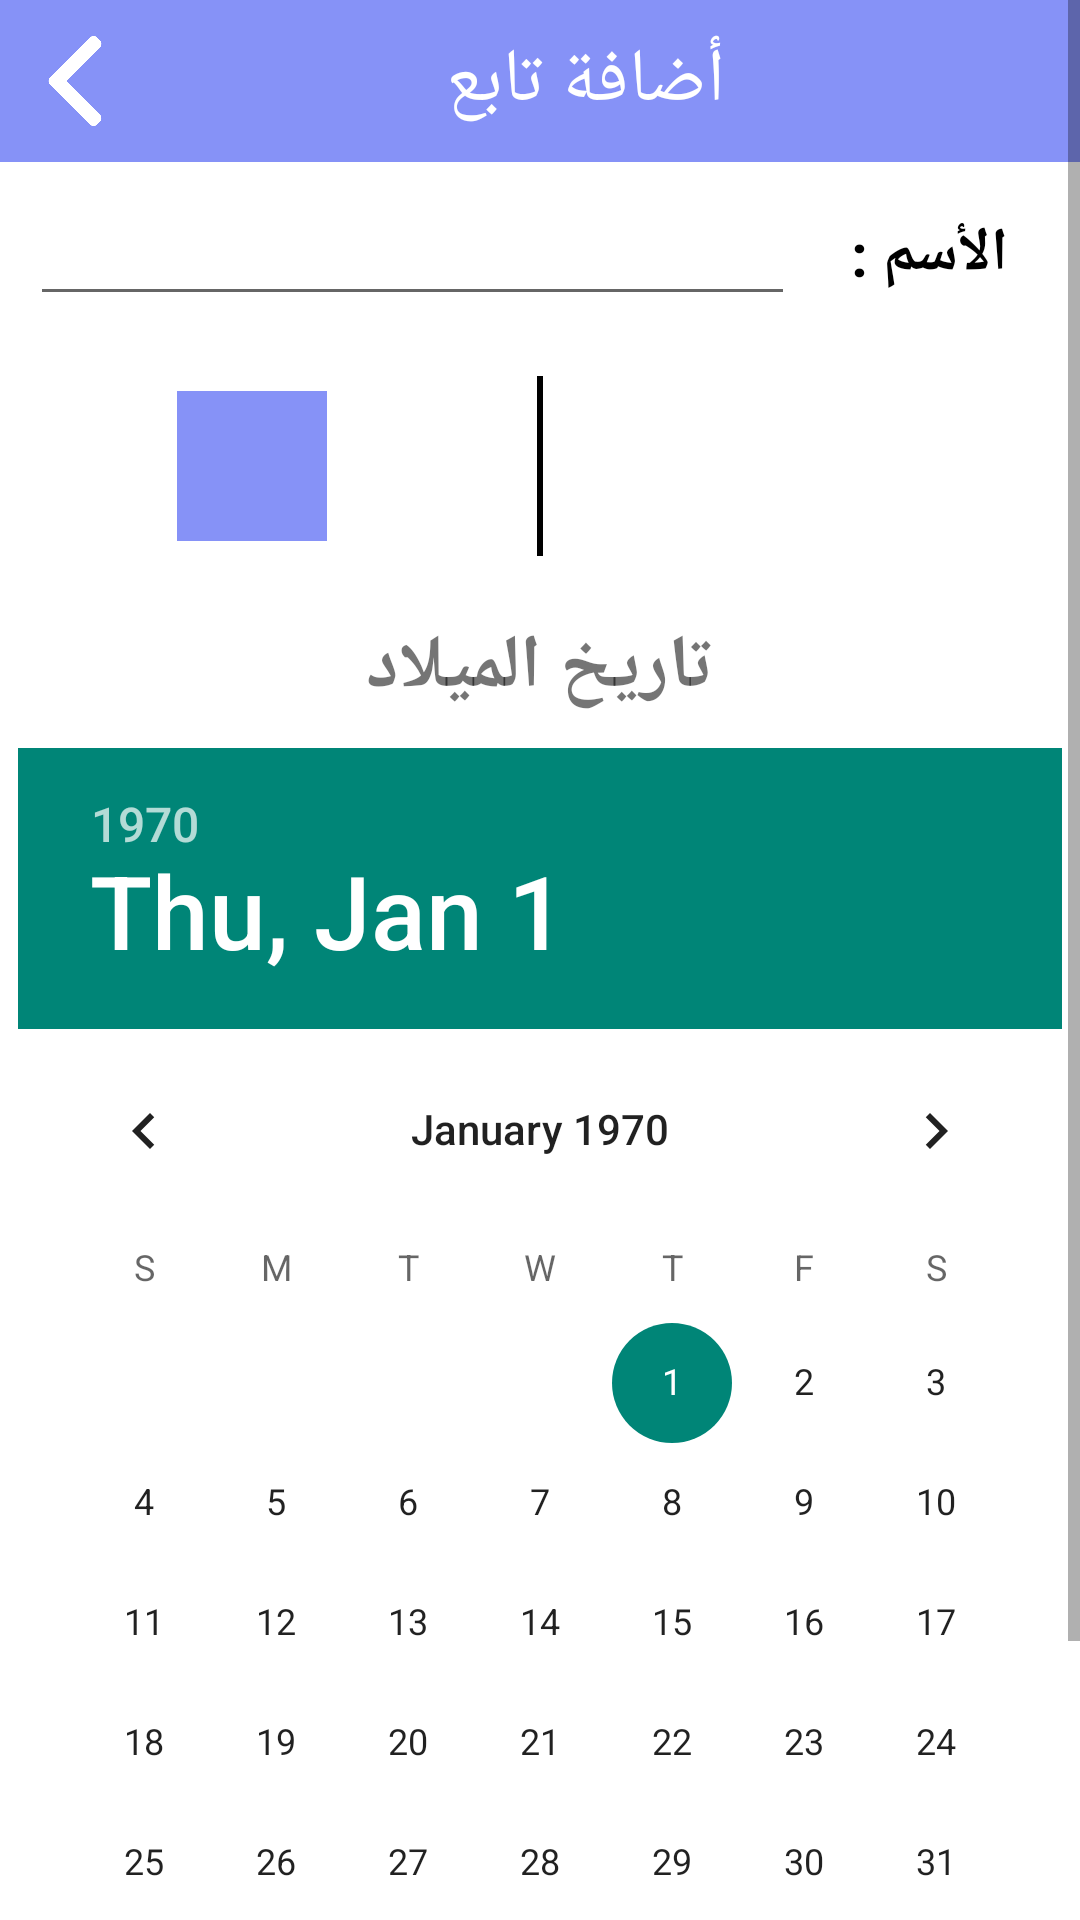

Named icons in this screenshot (1080*1920) and their bounding boxes, (x1=x1, y1=y1, x2=x2, y2=y2):
back: (x1=49, y1=36, x2=102, y2=126)
